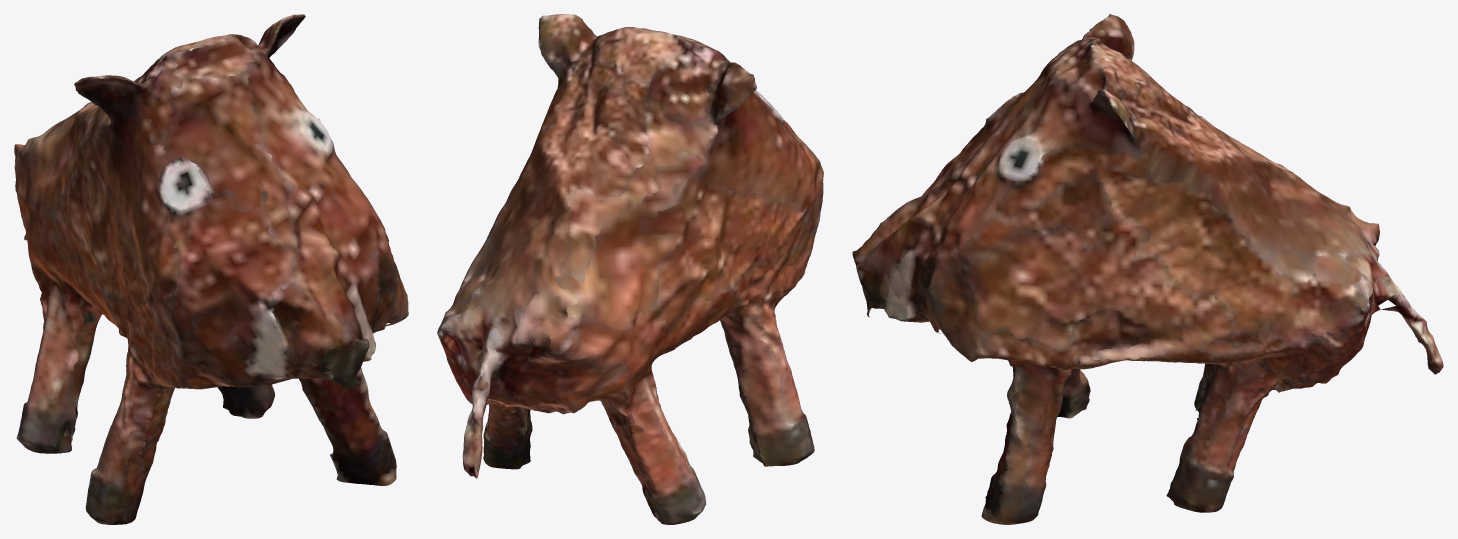
Rendered from inoshi1-tx256.glb.
3 renders of one model, left to right at view 1: azimuth 30°, elevation 25°; view 2: azimuth 150°, elevation 25°; view 3: azimuth 270°, elevation 25°, orthographic. The views are drawn at different scales.
Visible parts, largest first — view 1: mesh; view 2: mesh; view 3: mesh.
Part boxes in pixels (x1,y1,x2,y2): mesh: [14, 14, 408, 524]; mesh: [437, 14, 823, 524]; mesh: [852, 14, 1443, 524].
Size of the model in its own units: 0.2824 by 0.4121 by 0.5418.
1 material, 1 textured.
